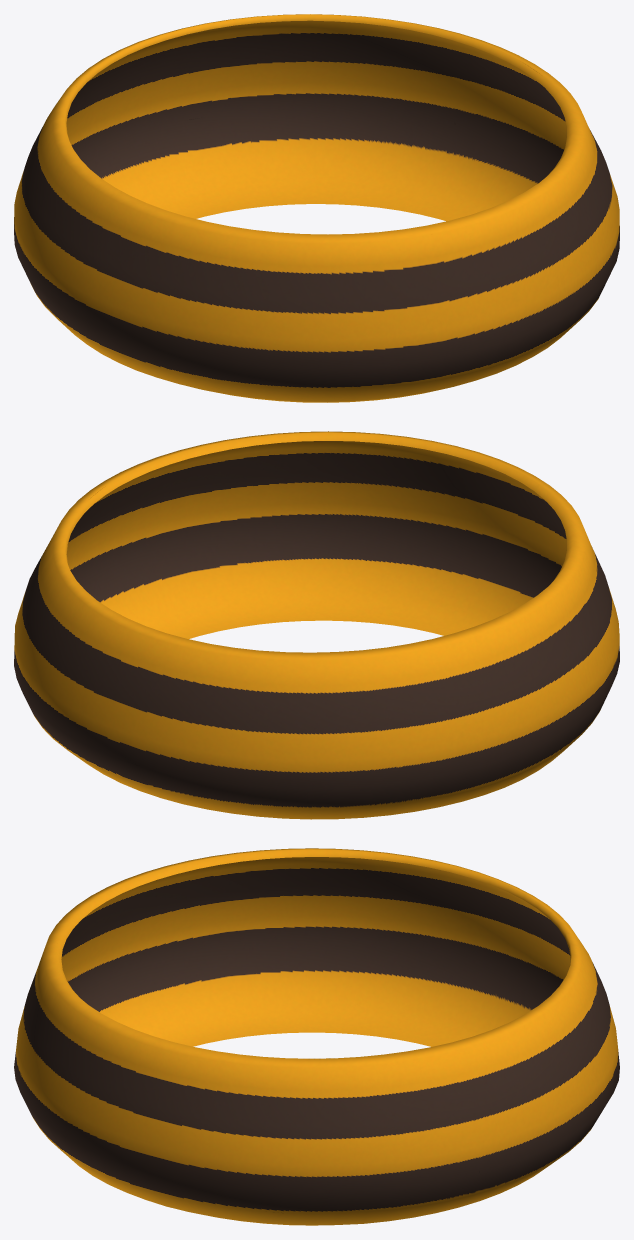
The model's file is abdomen-crouch.fbx.
3 views of the same model, one above another, from view 1: azimuth 30°, elevation 25°; view 2: azimuth 150°, elevation 25°; view 3: azimuth 270°, elevation 25° (orthographic).
Visible parts, largest first — view 1: abdomen-crouch; view 2: abdomen-crouch; view 3: abdomen-crouch.
Boxes of the visible parts, left/top/right/bottom form: abdomen-crouch: left=14, top=14, right=619, bottom=402; abdomen-crouch: left=14, top=431, right=619, bottom=819; abdomen-crouch: left=14, top=848, right=619, bottom=1225.
Size of the model in its own units: 70.24 by 22.5 by 71.85.
1 material, 1 textured.
